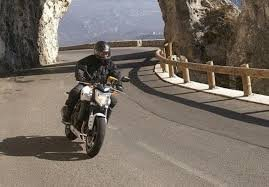motor: (66, 81, 118, 161)
